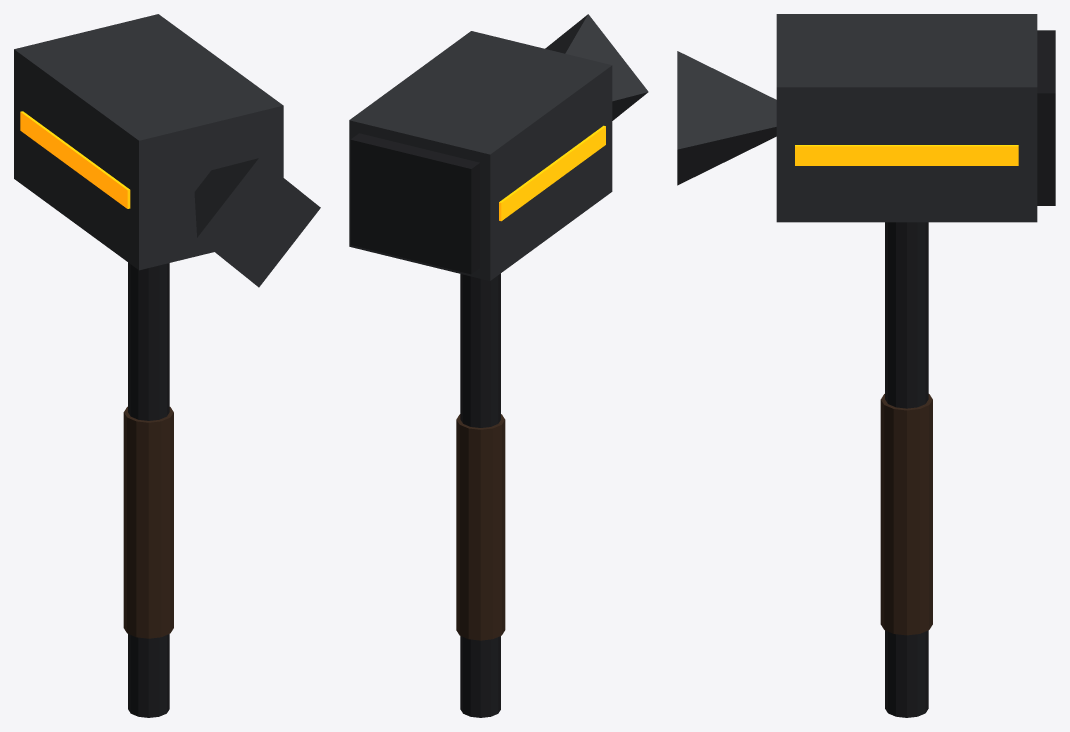
The model's file is WEAPON_021_Martelo_Colossal_da_Forja.glb.
3 views of the same model, side by side, from view 1: azimuth 30°, elevation 25°; view 2: azimuth 150°, elevation 25°; view 3: azimuth 270°, elevation 25° (orthographic). The views are drawn at different scales.
Parts seen in each view (by area): view 1: Hammer_Head_Block, Cylinder, Cone, Hammer_Haft, Cube.001; view 2: Hammer_Head_Block, Cube, Cylinder, Hammer_Haft, Cone, Cube.001; view 3: Hammer_Head_Block, Cylinder, Hammer_Haft, Cone, Cube.001, Cube.
Boxes of the visible parts, box(x1,y1,x2,y2) form: Hammer_Head_Block: box(14, 14, 283, 270); Cylinder: box(123, 406, 173, 638); Cone: box(194, 158, 320, 287); Hammer_Haft: box(128, 262, 169, 717); Cube.001: box(20, 111, 130, 208); Hammer_Head_Block: box(349, 31, 612, 280); Cube: box(350, 133, 479, 274); Cylinder: box(456, 414, 505, 640); Hammer_Haft: box(460, 273, 500, 717); Cone: box(545, 14, 648, 120); Cube.001: box(499, 125, 605, 221); Hammer_Head_Block: box(776, 14, 1037, 222); Cylinder: box(880, 394, 932, 635); Hammer_Haft: box(885, 222, 928, 717); Cone: box(677, 51, 776, 185); Cube.001: box(795, 145, 1018, 165); Cube: box(1037, 30, 1055, 205).
Size of the model in its own units: 0.29 by 1.17 by 0.61.
